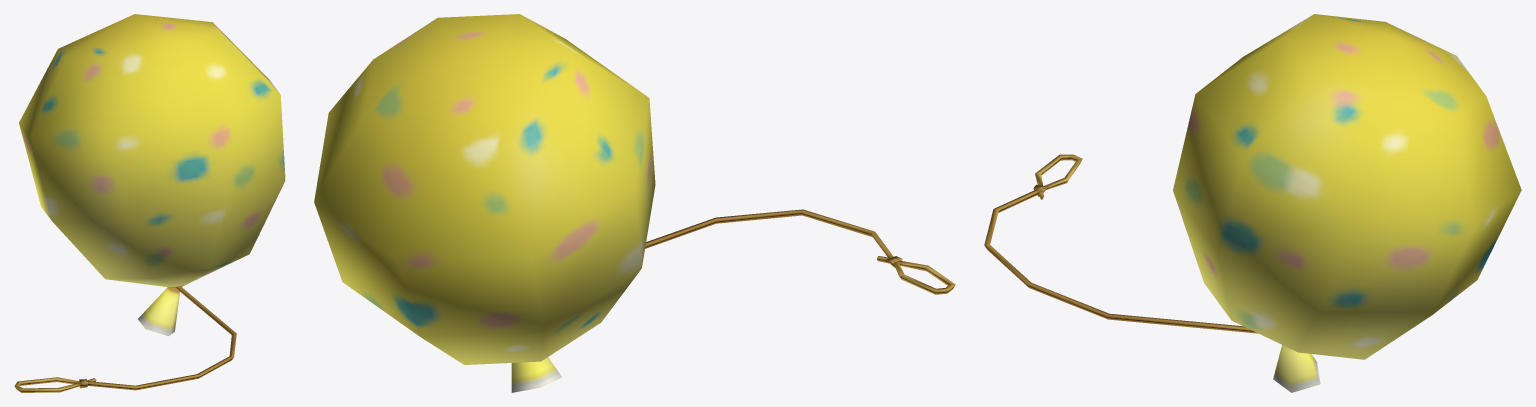
File: jsf_WaterBalloon_16_c.fbx
3 renders of one model, left to right at view 1: azimuth 30°, elevation 25°; view 2: azimuth 150°, elevation 25°; view 3: azimuth 270°, elevation 25°, orthographic. The views are drawn at different scales.
Visible parts, largest first — view 1: jsf_WaterBalloon_16_c; view 2: jsf_WaterBalloon_16_c; view 3: jsf_WaterBalloon_16_c.
Boxes of the visible parts, bbox=[...] form: jsf_WaterBalloon_16_c: bbox=[14, 14, 285, 392]; jsf_WaterBalloon_16_c: bbox=[314, 14, 955, 392]; jsf_WaterBalloon_16_c: bbox=[984, 14, 1521, 392].
Bounding box in the file's own units: 16.89 × 12.55 × 17.11.
